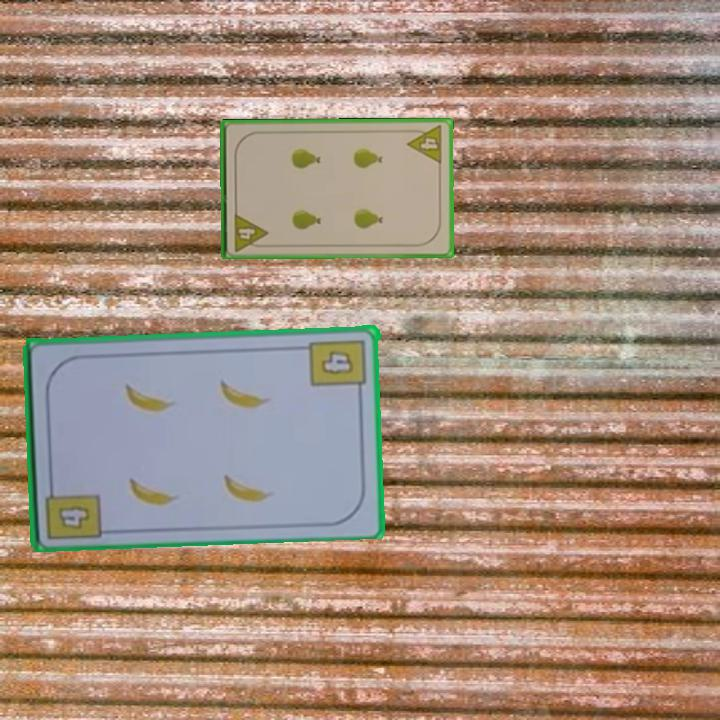4b: (307, 335, 370, 398), (55, 501, 94, 532)
4p: (404, 122, 445, 167), (231, 209, 270, 254)
